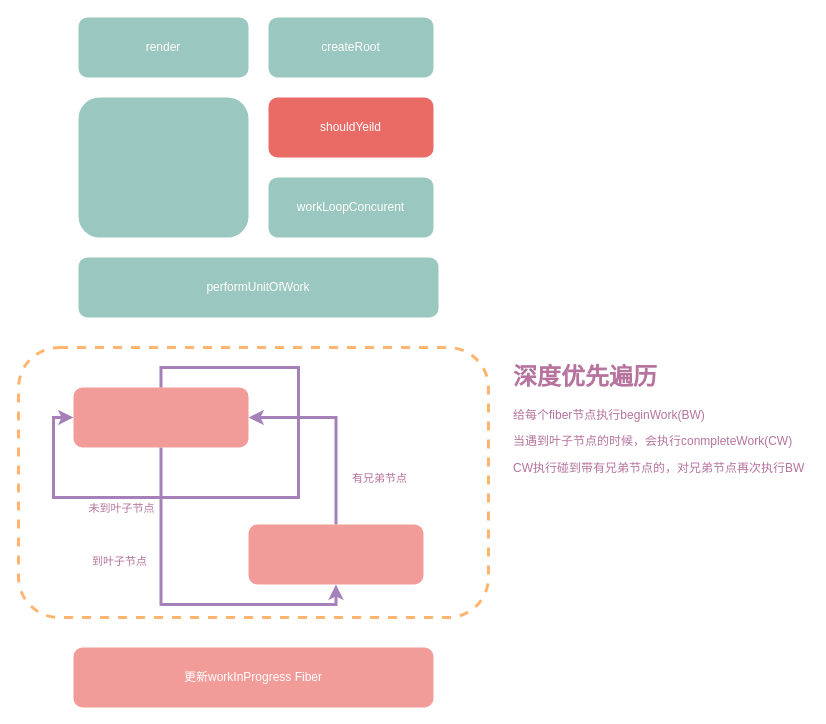
The diagram is 826 pixels wide and 724 high, and some of its shapes have lost their labels. Each missing label, with the centre of its shape:
"beginWork" goes at (x=160, y=417).
"completeWork" goes at (x=335, y=554).
"workLoopSync" goes at (x=163, y=167).
